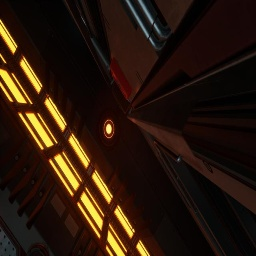FireAlarm ,: (110, 57, 132, 100)
